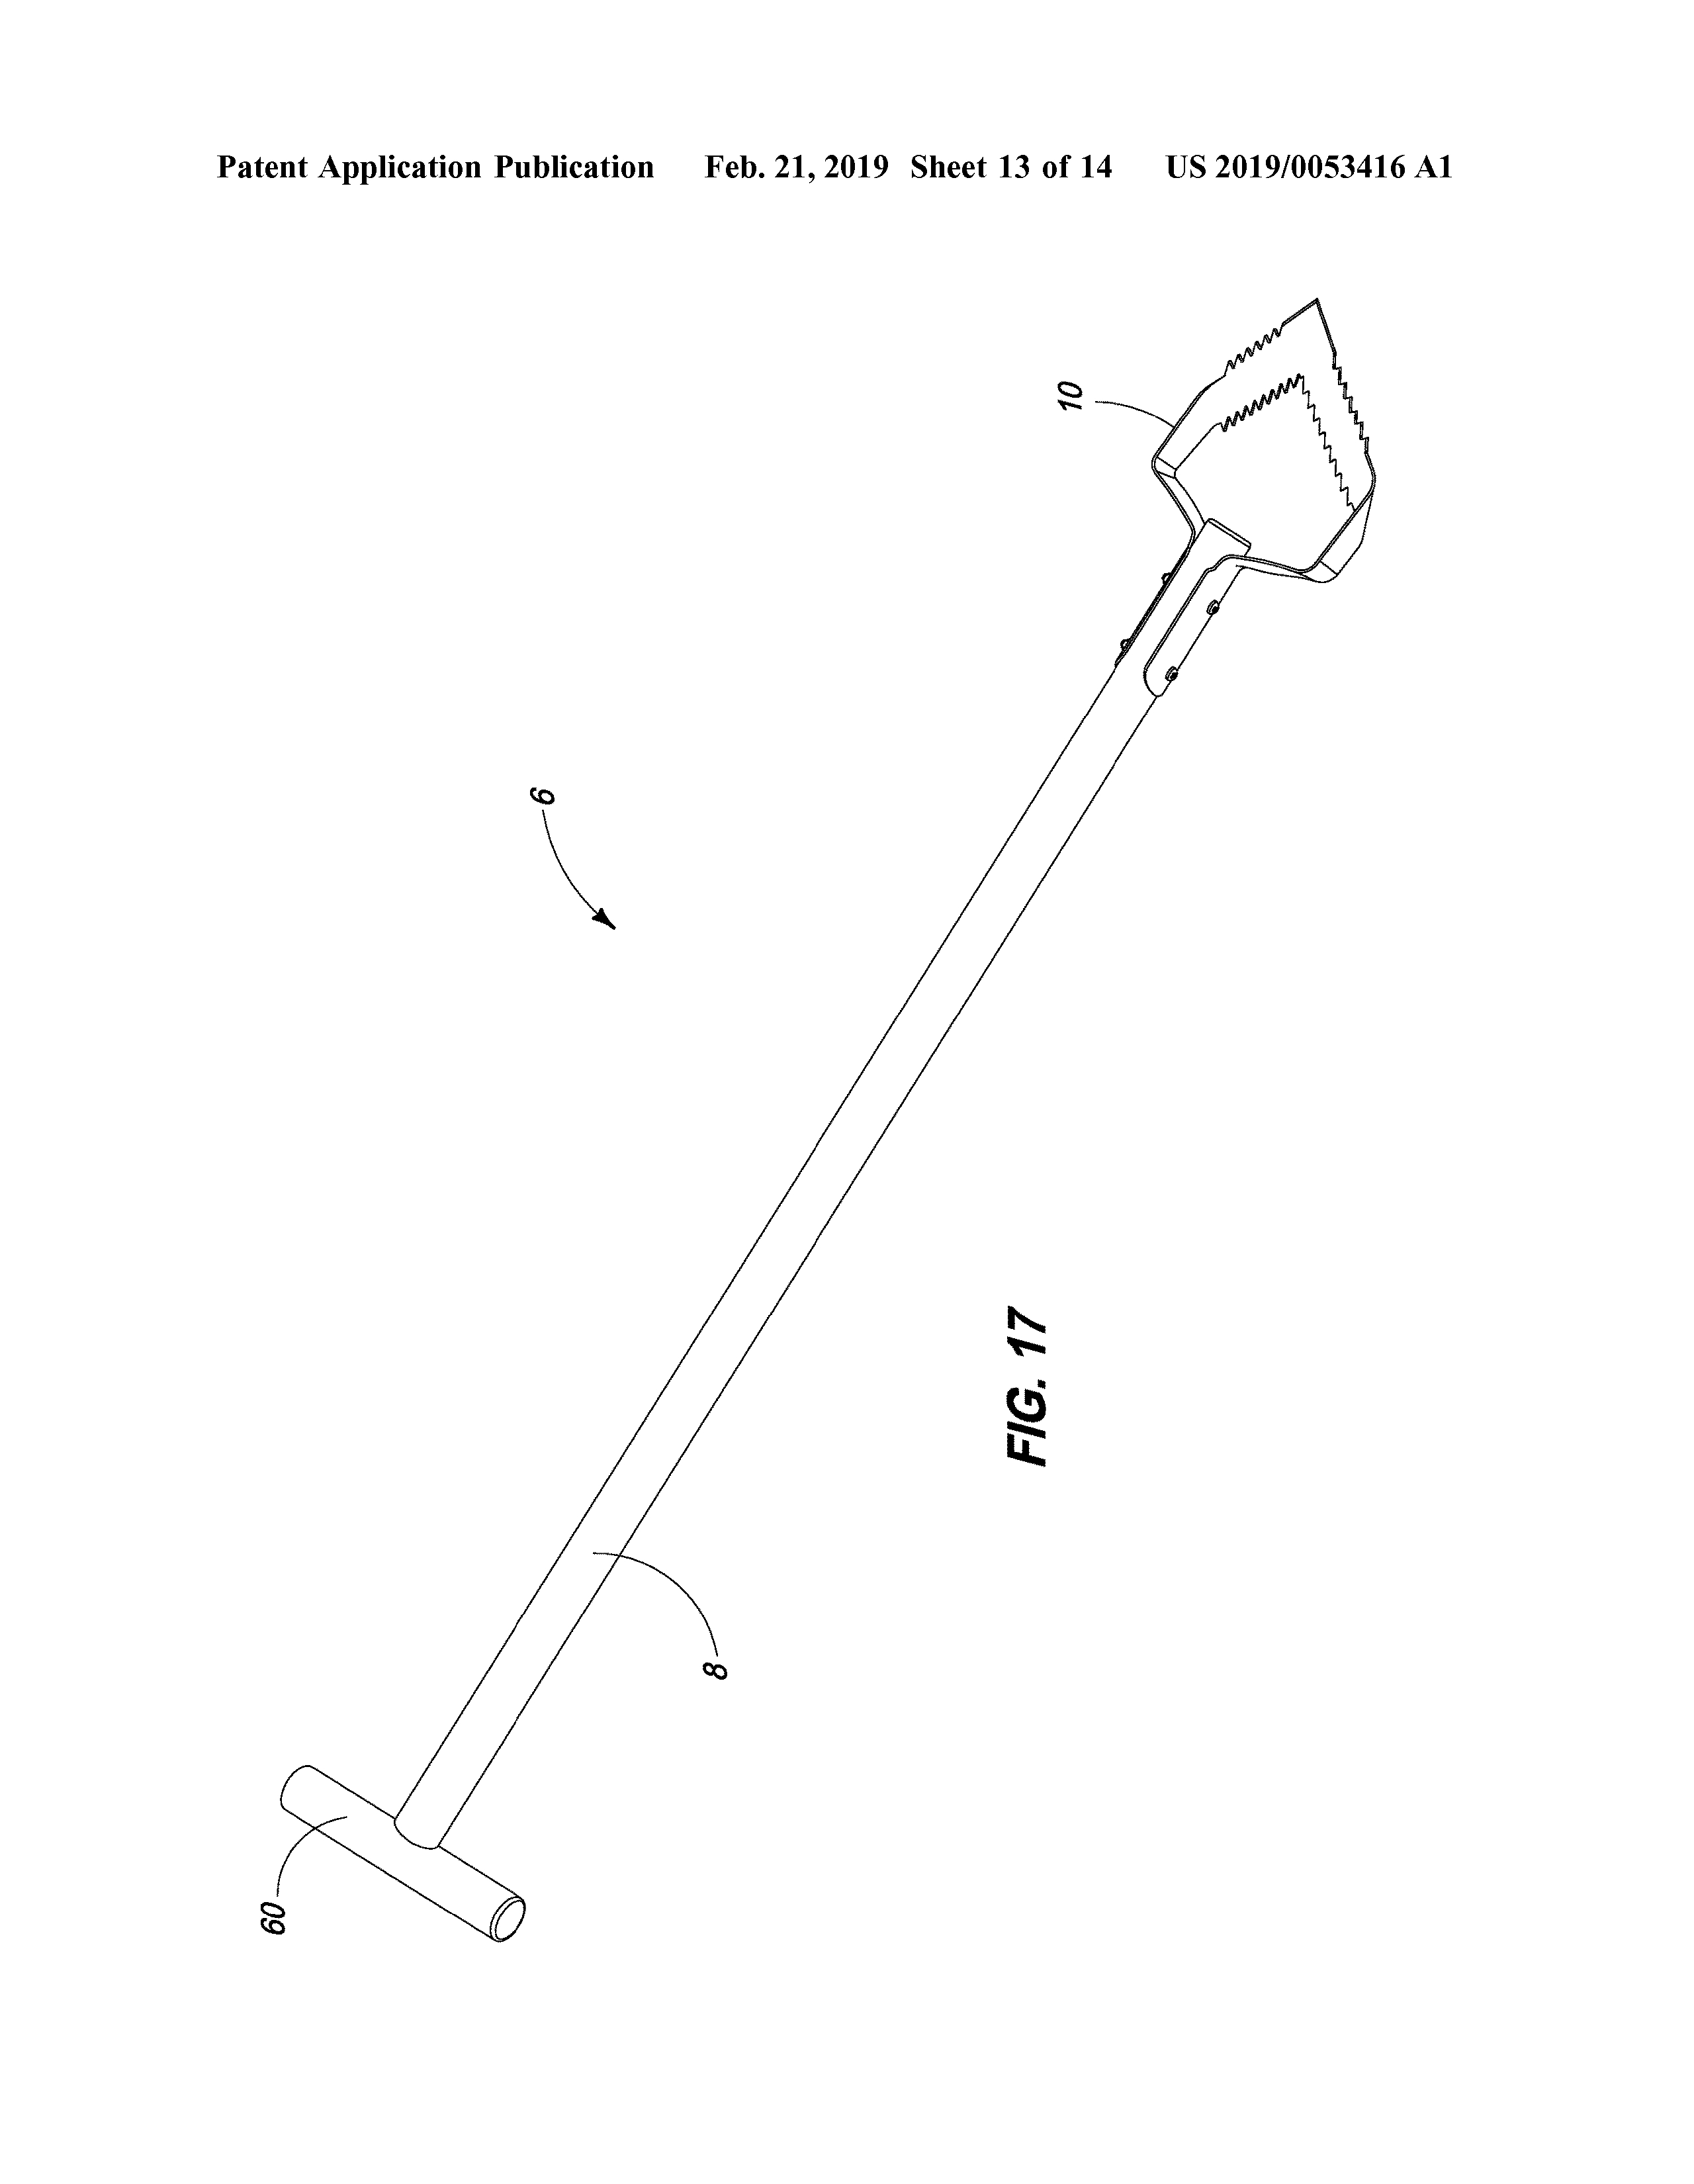10: (1045, 372, 1092, 418)
6: (516, 768, 571, 824)
60: (248, 1890, 298, 1946)
8: (693, 1642, 741, 1696)
FIG. 17: (996, 1280, 1056, 1491)
